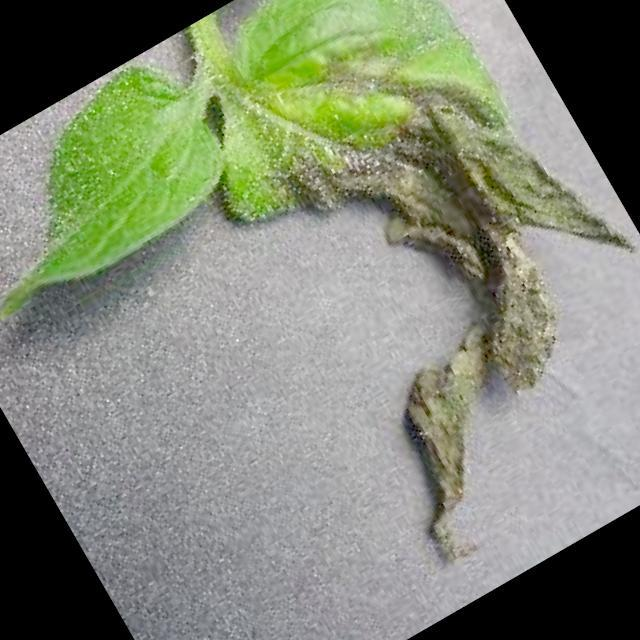Tomato healthy leaf: (0, 44, 251, 331)
Tomato late blight leaf: (148, 0, 640, 580)
